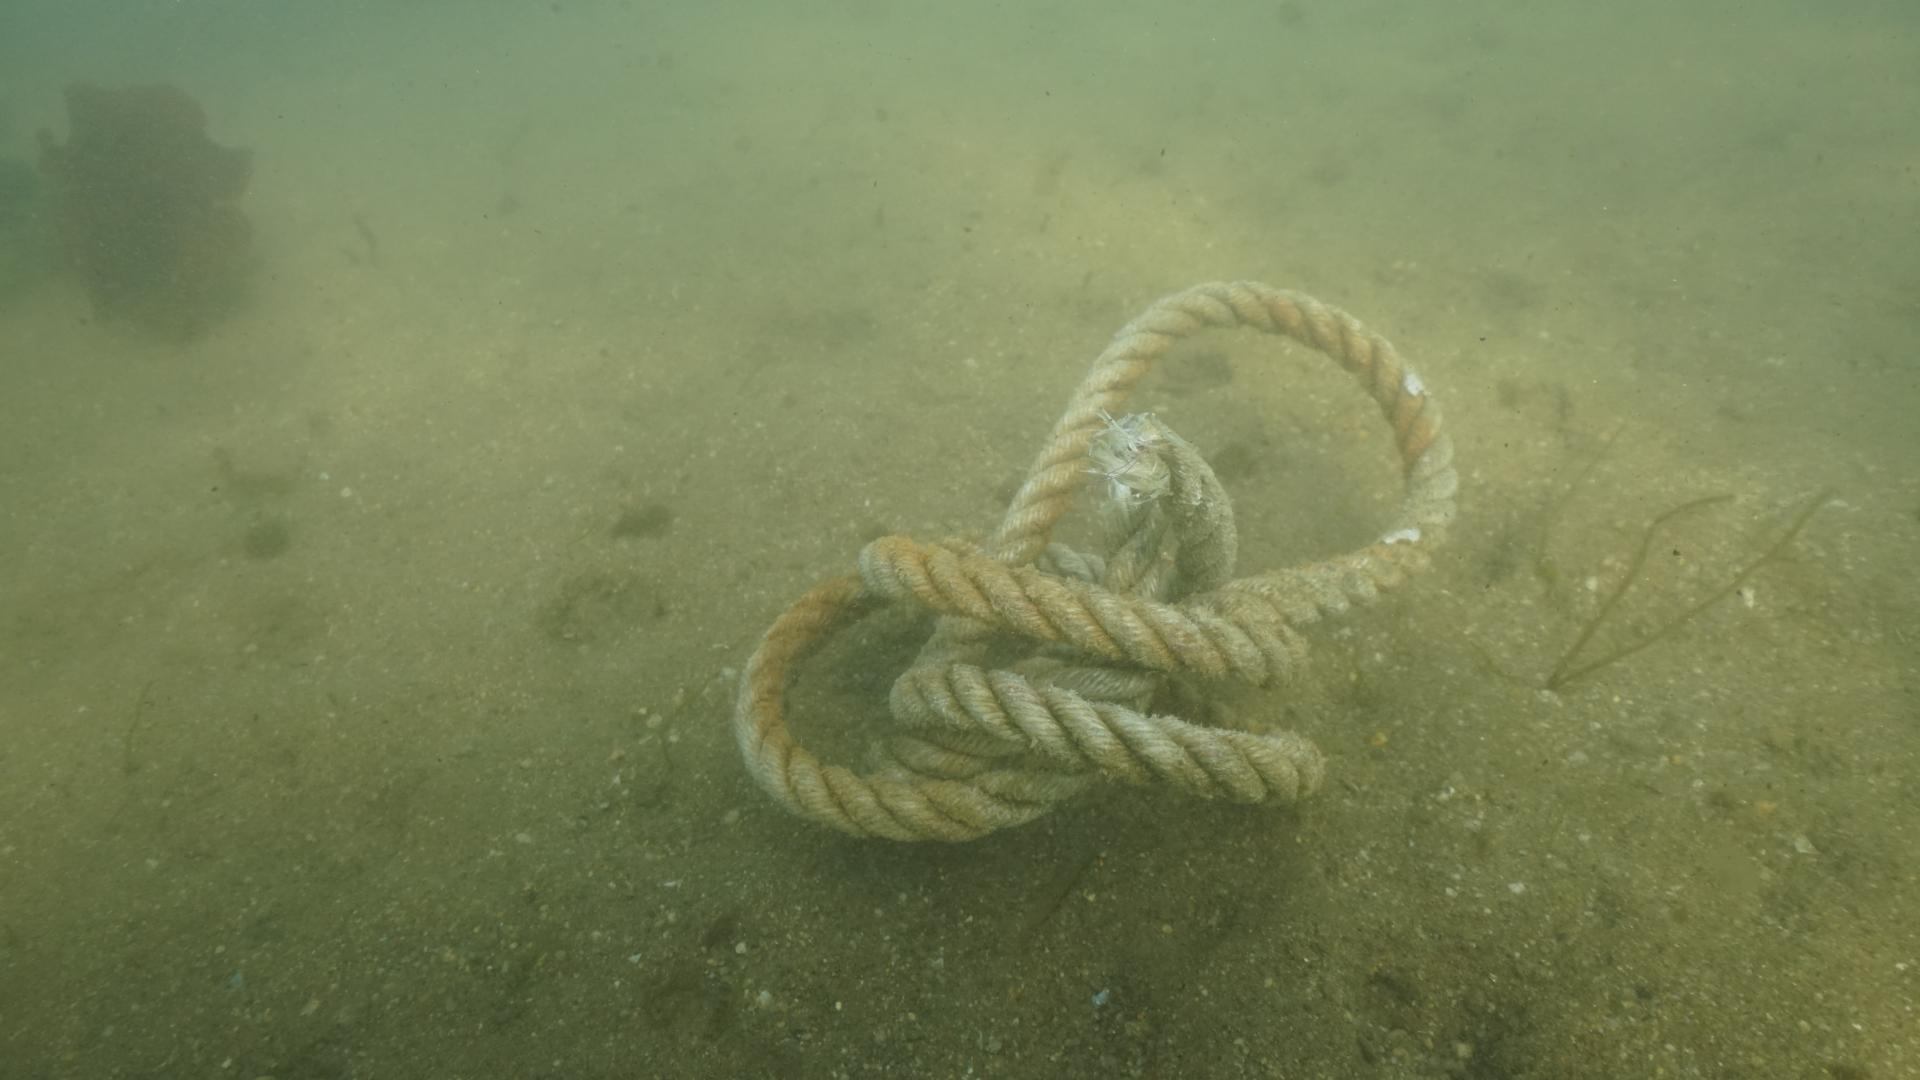bundle of ropes: (727, 276, 1462, 843)
